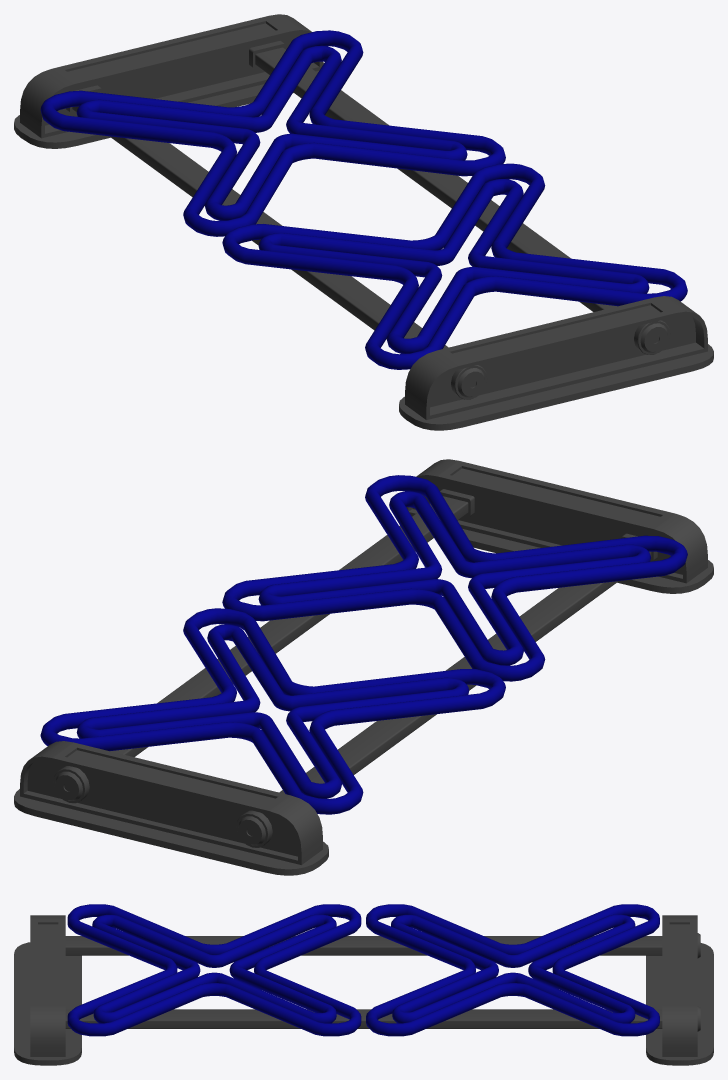
File: SM_Light_lamps_lamp_6.fbx
3 views of the same model, one above another, from view 1: azimuth 30°, elevation 25°; view 2: azimuth 150°, elevation 25°; view 3: azimuth 270°, elevation 25° (orthographic). The views are drawn at different scales.
Visible parts, largest first — view 1: SM_Light_lamps_lamp_6; view 2: SM_Light_lamps_lamp_6; view 3: SM_Light_lamps_lamp_6.
Part boxes in pixels (box(x1,y1,x2,y2)): SM_Light_lamps_lamp_6: box(14, 14, 713, 430); SM_Light_lamps_lamp_6: box(14, 459, 713, 875); SM_Light_lamps_lamp_6: box(14, 904, 713, 1065).
Bounding box in the file's own units: 44.03 × 7.15 × 105.
